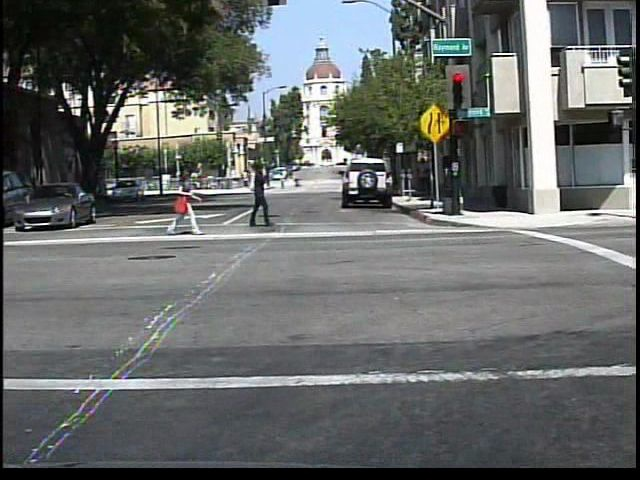person: (240, 159, 280, 231), (165, 163, 203, 238), (278, 171, 287, 192), (291, 172, 300, 190)
